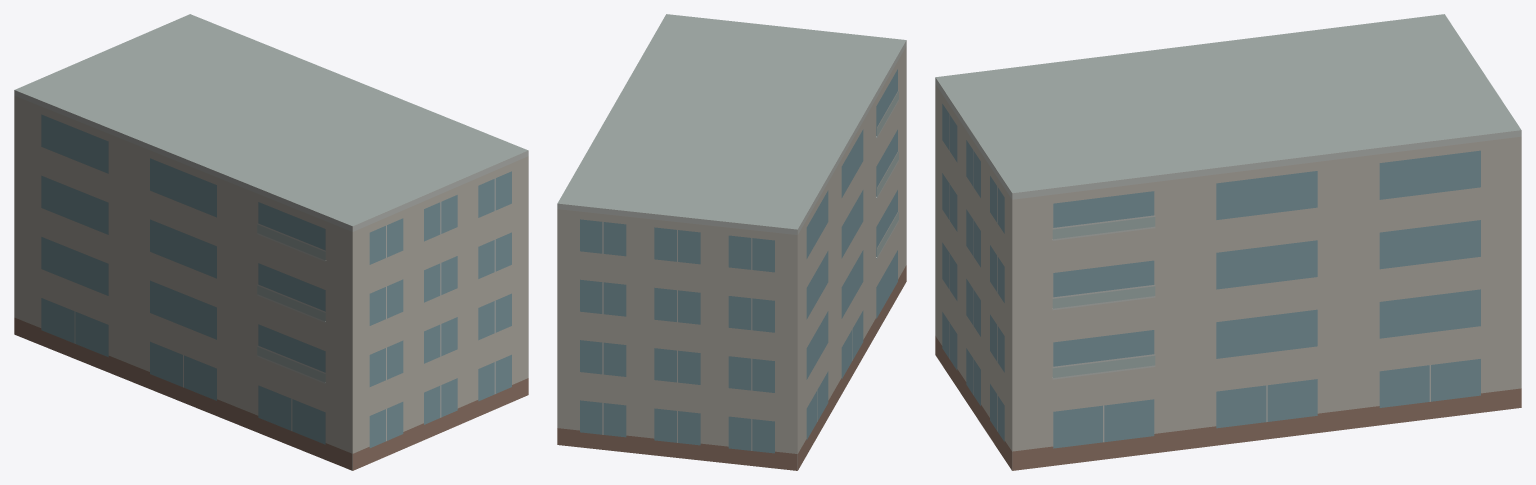
The model's file is survey-upis-32569382.glb.
The picture shows the model from 3 angles, left to right: view 1: azimuth 30°, elevation 25°; view 2: azimuth 150°, elevation 25°; view 3: azimuth 270°, elevation 25°; orthographic projection. The views are drawn at different scales.
Parts seen in each view (by area): view 1: survey-upis-32569382.tmp; view 2: survey-upis-32569382.tmp; view 3: survey-upis-32569382.tmp.
Boxes of the visible parts, x1,y1,x2,y2 form: survey-upis-32569382.tmp: [14, 14, 528, 470]; survey-upis-32569382.tmp: [557, 14, 906, 470]; survey-upis-32569382.tmp: [935, 14, 1521, 470].
Size of the model in its own units: 14.55 by 10.5 by 20.11.
